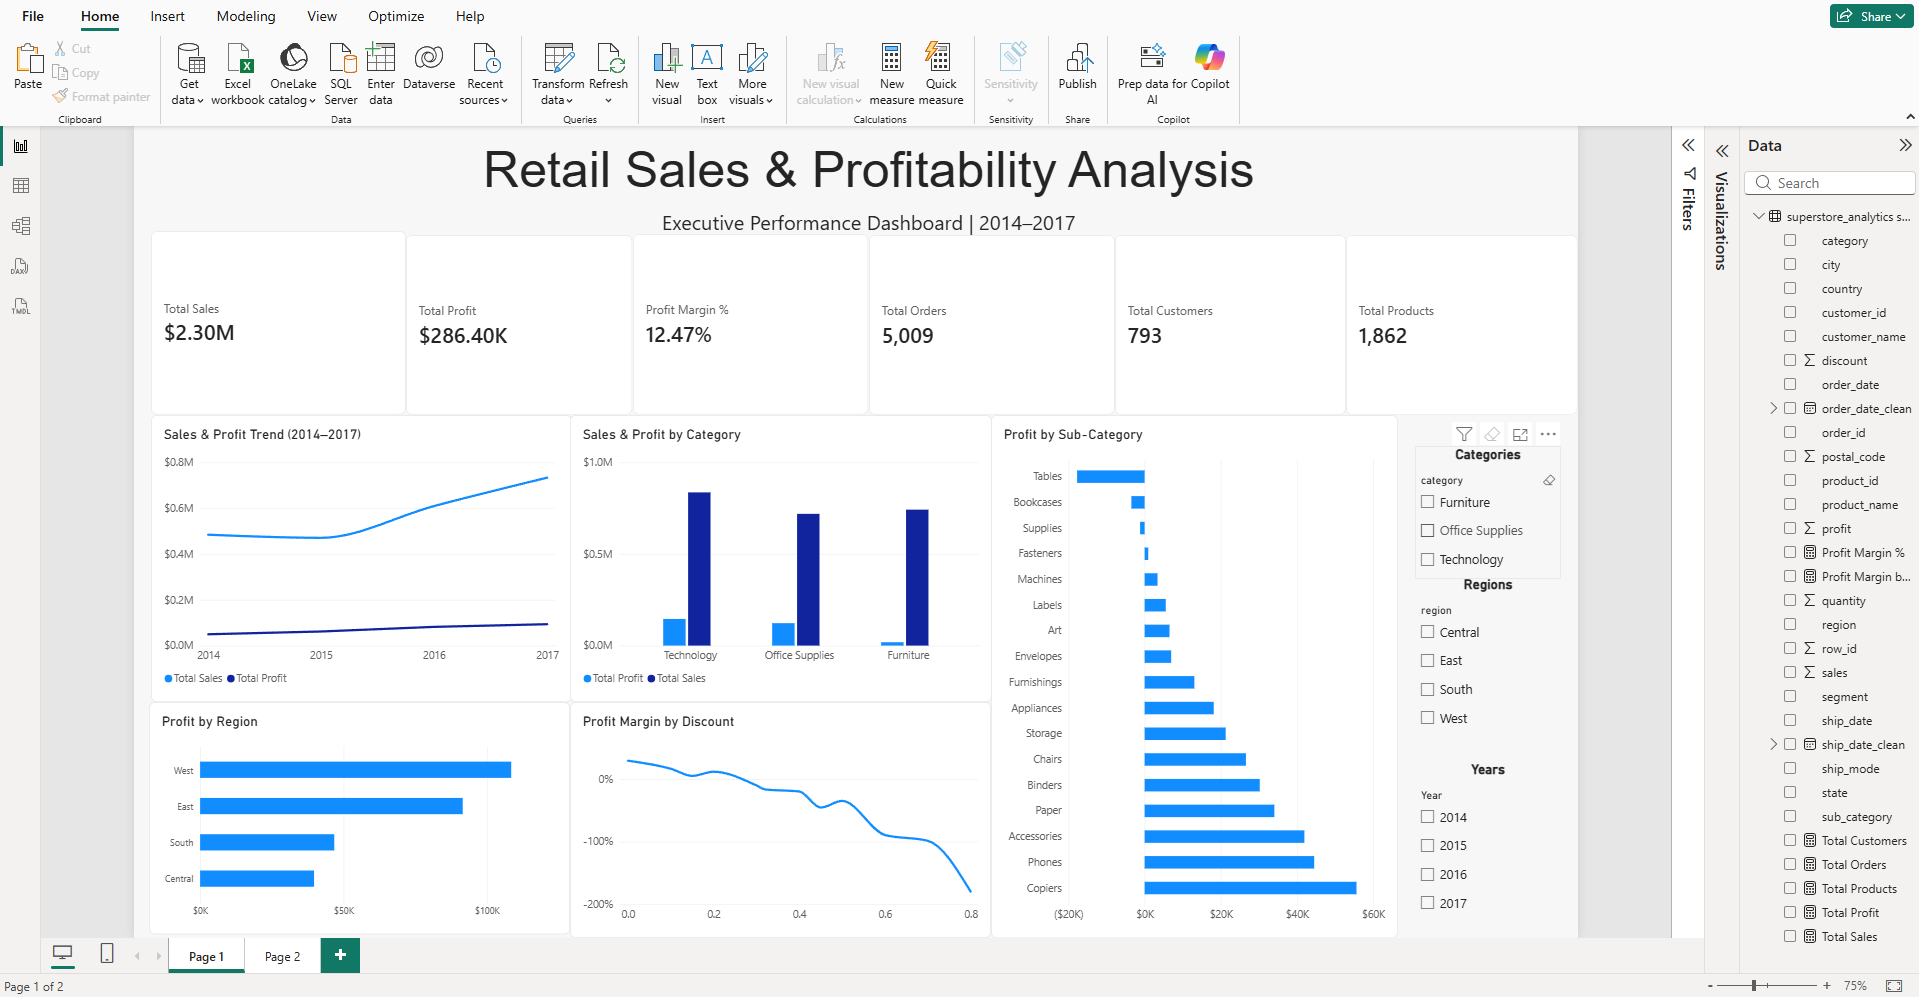

What the dashboard file says about the page in this screenshot:
{"tool":"powerbi","page":{"name":"Page 1","canvas":[1920,1080],"ordinal":0},"visuals":[{"type":"cardVisual","fields":{"Data":["superstore_analytics superstore.Total Profit"]},"box":[361.8,145,301.9,239.4],"z":0},{"type":"cardVisual","fields":{"Data":["superstore_analytics superstore.Profit Margin %"]},"box":[663.7,143.6,313.9,240.7],"z":1000},{"type":"cardVisual","fields":{"Data":["superstore_analytics superstore.Total Orders"]},"box":[977.6,145,327.2,239.4],"z":2000},{"type":"cardVisual","fields":{"Data":["superstore_analytics superstore.Total Products"]},"box":[1612,145,308.6,239.4],"z":3000},{"type":"cardVisual","fields":{"Data":["superstore_analytics superstore.Total Customers"]},"box":[1304.8,145,307.2,239.4],"z":4000},{"type":"lineChart","title":"Sales & Profit Trend (2014–2017)","fields":{"Category":["superstore_analytics superstore.order_date_clean.Variation.Date Hierarchy.Year"],"Y":["superstore_analytics superstore.Total Sales","superstore_analytics superstore.Total Profit"]},"box":[22.6,384.4,560,381.7],"z":5000},{"type":"cardVisual","fields":{"Data":["superstore_analytics superstore.Total Sales"]},"box":[22.6,139.7,339.2,244.7],"z":6000},{"type":"clusteredColumnChart","title":"Sales & Profit by Category","fields":{"Category":["superstore_analytics superstore.category"],"Y":["superstore_analytics superstore.Total Profit","superstore_analytics superstore.Total Sales"]},"box":[579.9,384.4,561.3,381.7],"z":7000},{"type":"clusteredBarChart","title":"Profit by Sub-Category","fields":{"Category":["superstore_analytics superstore.sub_category"],"Y":["superstore_analytics superstore.Total Profit"]},"box":[1139.9,384.4,541.3,695.6],"z":8000},{"type":"lineChart","title":"Profit Margin by Discount","fields":{"Category":["superstore_analytics superstore.discount"],"Y":["superstore_analytics superstore.Profit Margin by Discount"]},"box":[579.9,766.1,560,313.9],"z":9000},{"type":"clusteredBarChart","title":"Profit by Region","fields":{"Category":["superstore_analytics superstore.region"],"Y":["superstore_analytics superstore.Total Profit"]},"box":[20,766.1,560,308.6],"z":10000},{"type":"slicer","title":"Years","fields":{"Values":["superstore_analytics superstore.order_date_clean.Variation.Date Hierarchy.Year"]},"box":[1703.9,844.5,194.6,235.9],"z":11000},{"type":"slicer","title":"Regions","fields":{"Values":["superstore_analytics superstore.region"]},"box":[1703.9,598.8,194.6,245.8],"z":12000},{"type":"slicer","title":"Categories","fields":{"Values":["superstore_analytics superstore.category"]},"box":[1703.9,425.6,194.6,176.5],"z":13000},{"type":"textbox","box":[1726,0,194,280],"z":14000},{"type":"textbox","title":"Retail Sales & Profitability Analysis","box":[34.6,20,1885.4,145.2],"z":15000}]}

Visuals, with their boxes on the page's 1920x1080 design canvas (x1, y1, x2, y2). These are canvas units, not pixel positions in the 1919x997 screenshot, which may show the page scaled, cropped or inside an application window:
cardVisual - superstore_analytics superstore.Total Profit: x1=362 y1=145 x2=664 y2=384
cardVisual - superstore_analytics superstore.Profit Margin %: x1=664 y1=144 x2=978 y2=384
cardVisual - superstore_analytics superstore.Total Orders: x1=978 y1=145 x2=1305 y2=384
cardVisual - superstore_analytics superstore.Total Products: x1=1612 y1=145 x2=1921 y2=384
cardVisual - superstore_analytics superstore.Total Customers: x1=1305 y1=145 x2=1612 y2=384
"Sales & Profit Trend (2014–2017)" lineChart: x1=23 y1=384 x2=583 y2=766
cardVisual - superstore_analytics superstore.Total Sales: x1=23 y1=140 x2=362 y2=384
"Sales & Profit by Category" clusteredColumnChart: x1=580 y1=384 x2=1141 y2=766
"Profit by Sub-Category" clusteredBarChart: x1=1140 y1=384 x2=1681 y2=1080
"Profit Margin by Discount" lineChart: x1=580 y1=766 x2=1140 y2=1080
"Profit by Region" clusteredBarChart: x1=20 y1=766 x2=580 y2=1075
"Years" slicer: x1=1704 y1=844 x2=1898 y2=1080
"Regions" slicer: x1=1704 y1=599 x2=1898 y2=845
"Categories" slicer: x1=1704 y1=426 x2=1898 y2=602
textbox: x1=1726 y1=0 x2=1920 y2=280
"Retail Sales & Profitability Analysis" textbox: x1=35 y1=20 x2=1920 y2=165
